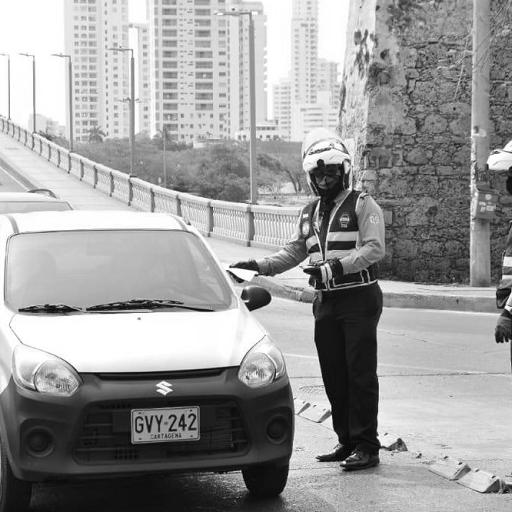placa: (131, 405, 200, 443)
